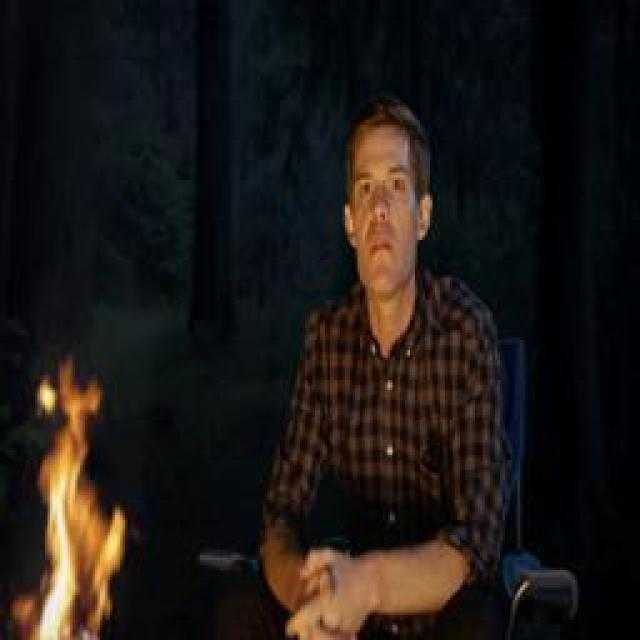Fire: (10, 360, 130, 640)
